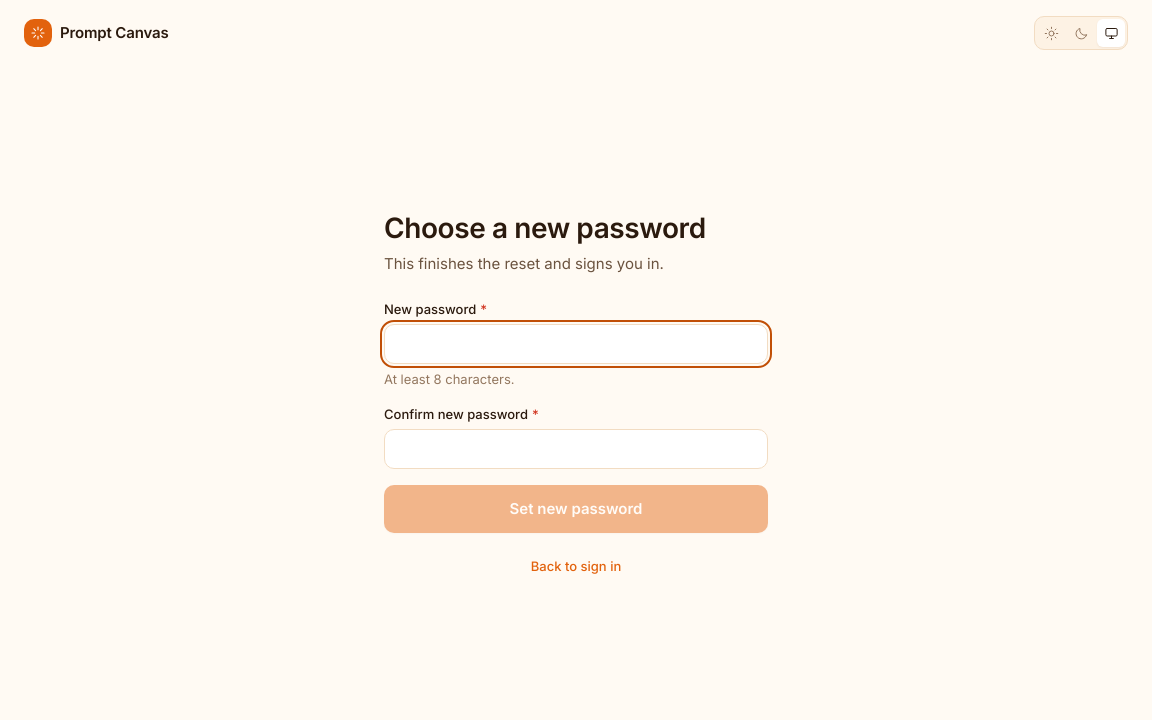
Test case: completing a reset › shows a server-side password rejection against the field
The image size is (1152, 720).
In the password field labelled "New password*": (576, 344) left=384, top=324, right=768, bottom=364, type "password123"
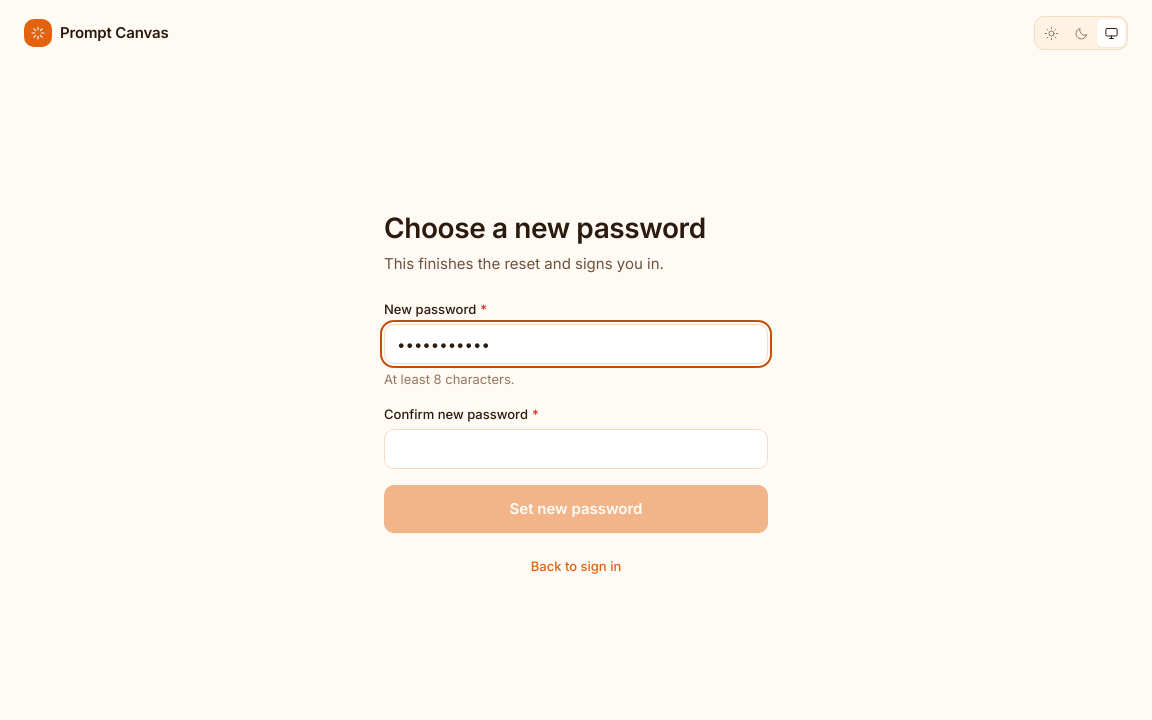
In the password field labelled "Confirm new password*": (576, 450) left=384, top=430, right=768, bottom=470, type "password123"
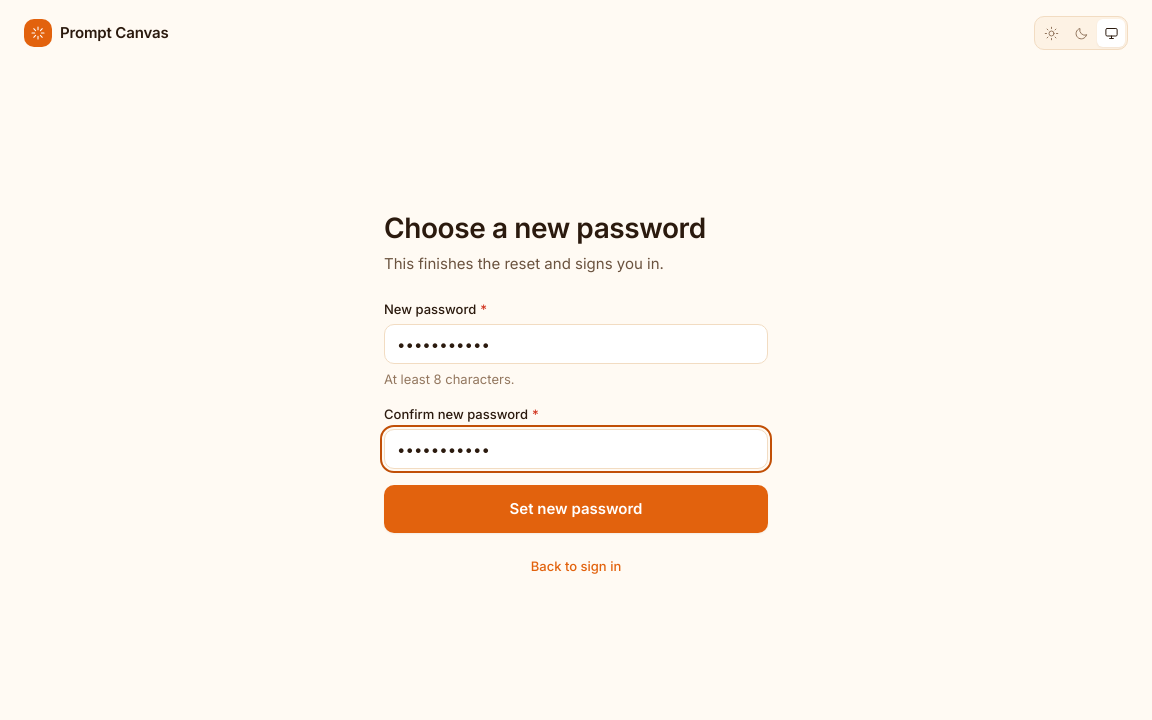
Click the button "Set new password": (576, 510) left=384, top=486, right=768, bottom=534
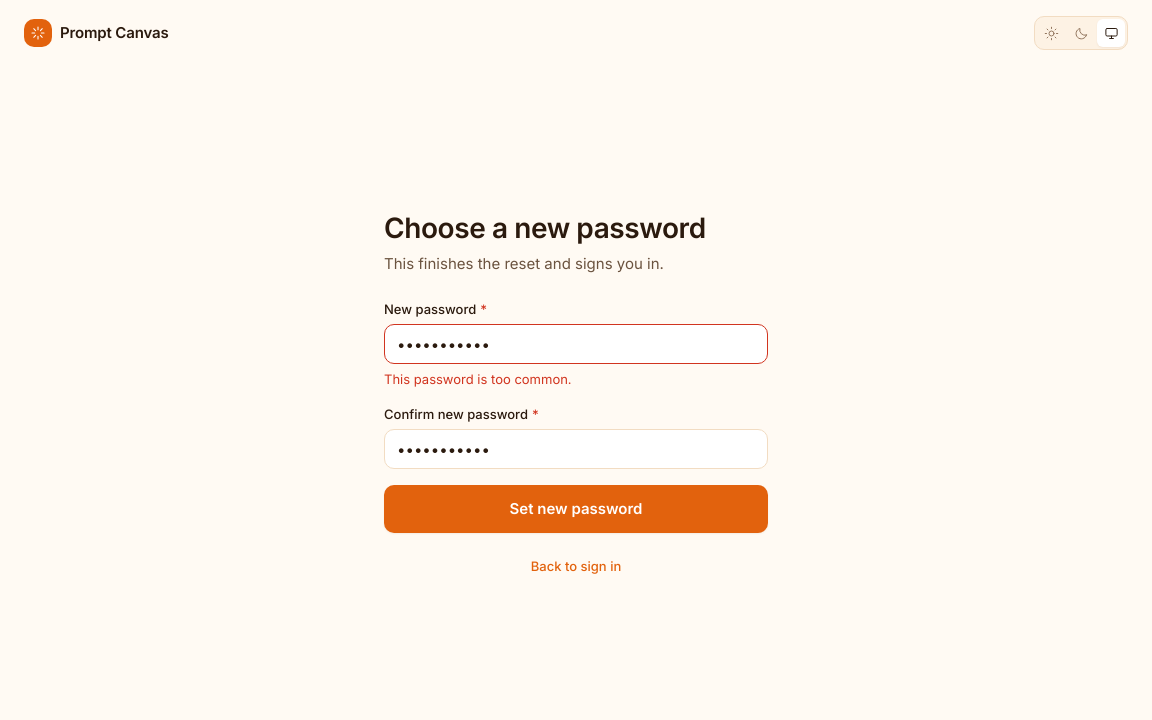
Check: the text "This password is too common." is shown, box left=384, top=371, right=572, bottom=387
